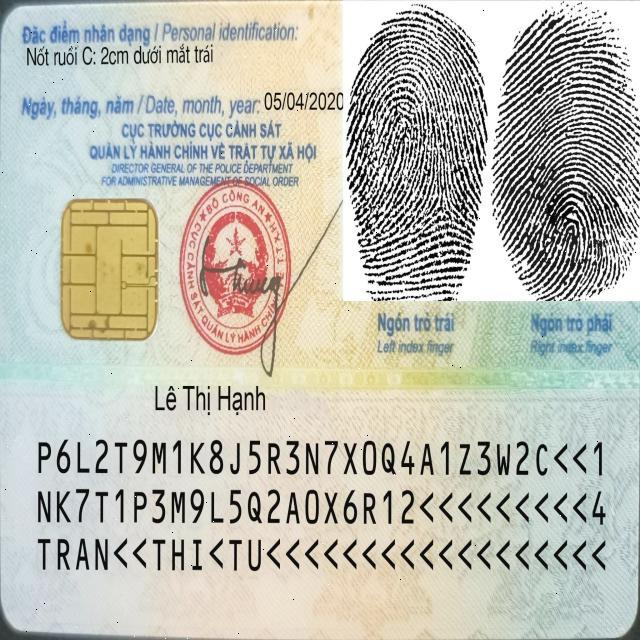features: (21, 37, 220, 70)
finger_print: (491, 0, 640, 363), (344, 0, 492, 361)
issue_date: (263, 86, 346, 116)
